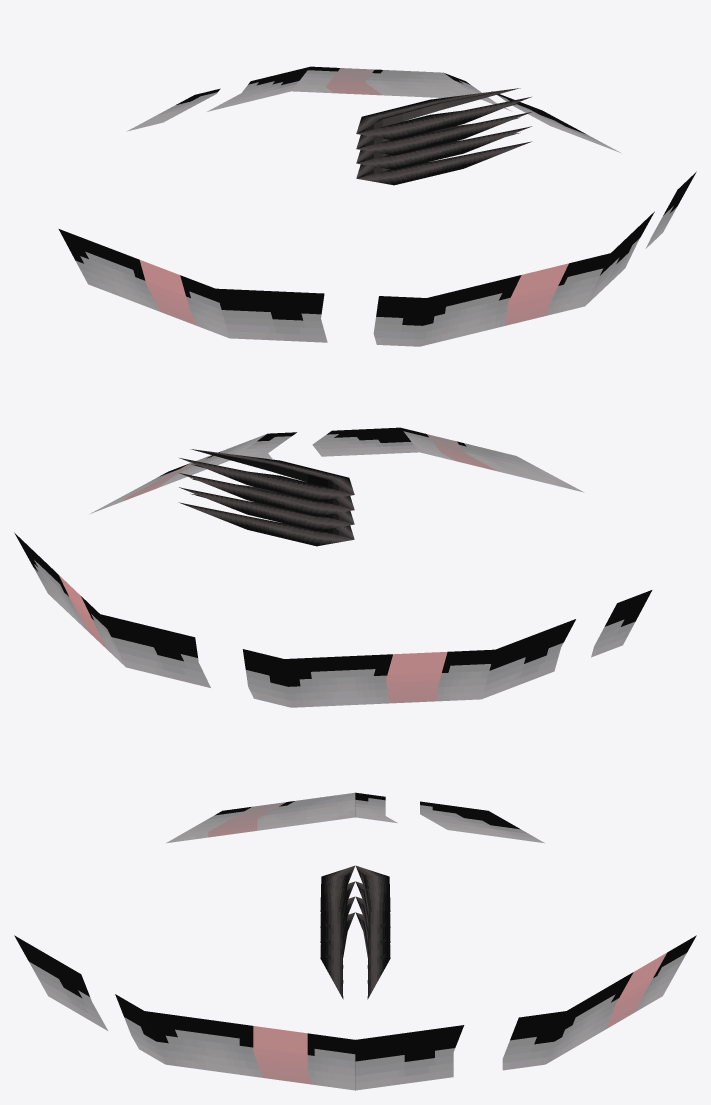
File: 62_efe.gltf
The picture shows the model from 3 angles, top to bottom: view 1: azimuth 30°, elevation 25°; view 2: azimuth 150°, elevation 25°; view 3: azimuth 270°, elevation 25°; orthographic projection. The views are drawn at different scales.
Bounding box in the file's own units: 820 × 118 × 780.
2 materials, 2 textured.
